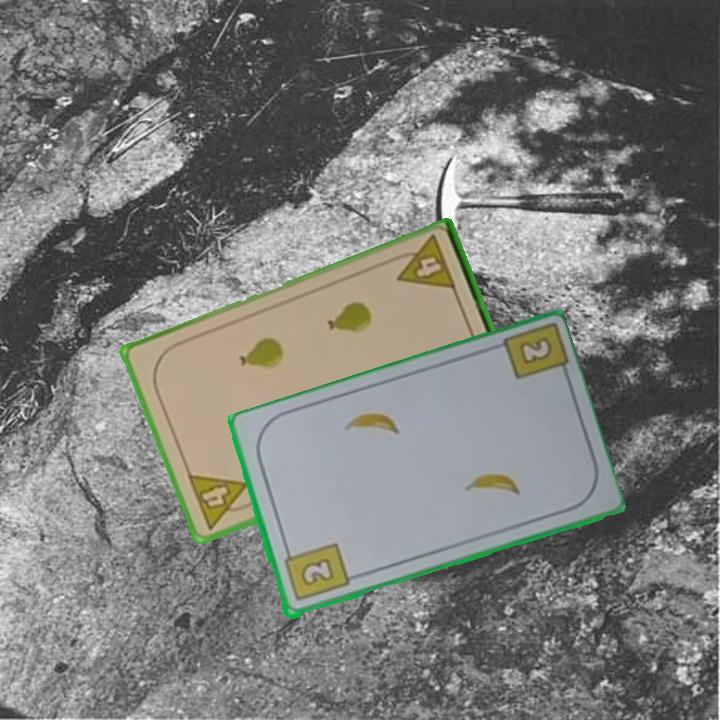2b: (280, 540, 352, 605), (515, 333, 555, 369)
4p: (183, 470, 258, 533), (387, 232, 459, 294)
